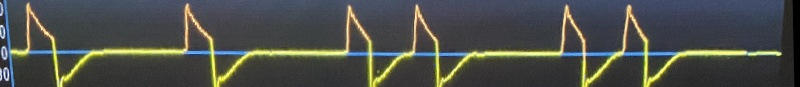normal_flow: (11, 0, 738, 87)
